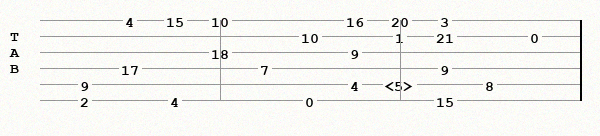0: (305, 94, 318, 107), (530, 30, 543, 43)
1: (395, 30, 408, 43)
10: (211, 14, 233, 27), (301, 30, 323, 43)
15: (166, 14, 188, 27), (436, 94, 458, 107)
16: (346, 14, 368, 27)
17: (121, 62, 143, 75)
18: (211, 46, 233, 59)
2: (80, 94, 93, 107)
20: (391, 14, 413, 27)
21: (436, 30, 458, 43)
3: (440, 14, 453, 27)
4: (125, 14, 138, 27), (170, 94, 183, 107), (350, 78, 363, 91)
7: (260, 62, 273, 75)
8: (485, 78, 498, 91)
9: (80, 78, 93, 91), (350, 46, 363, 59), (440, 62, 453, 75)
harmonic: (385, 78, 418, 91)
